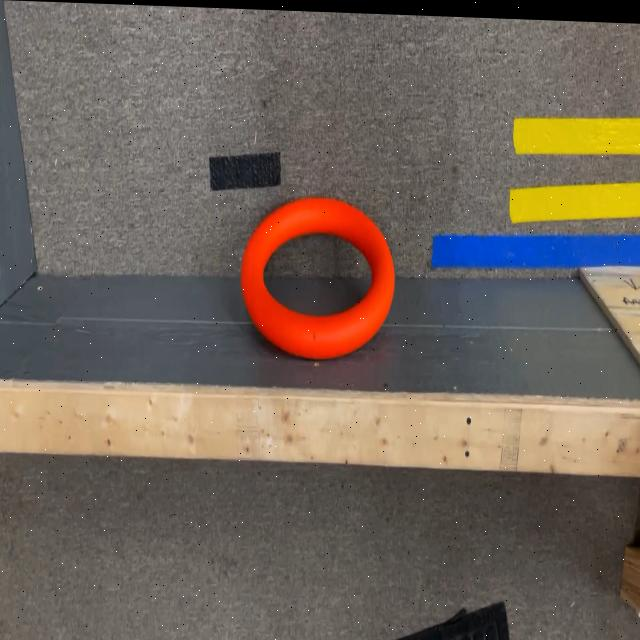note: (241, 196, 395, 359)
